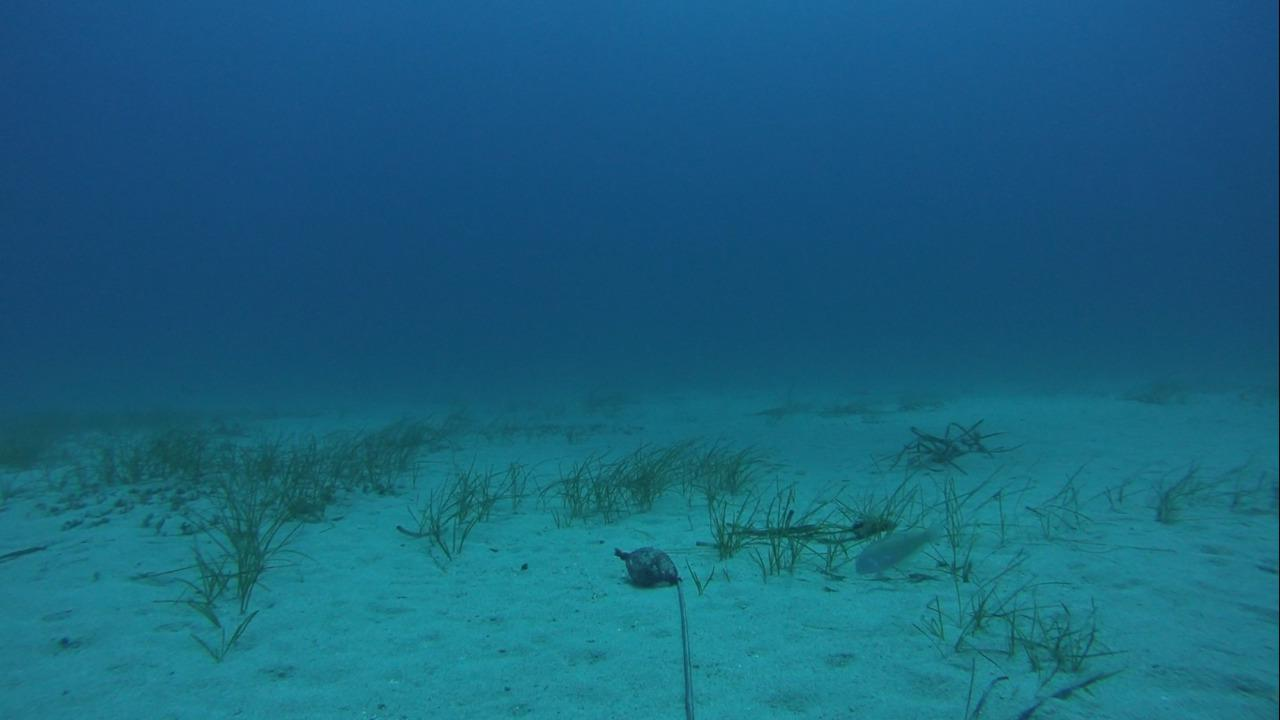raor: (851, 520, 937, 575)
